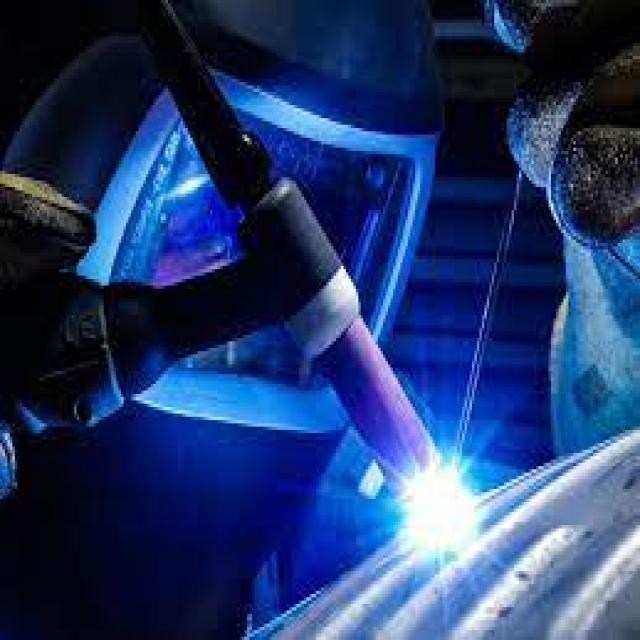welding: (409, 467, 478, 556)
